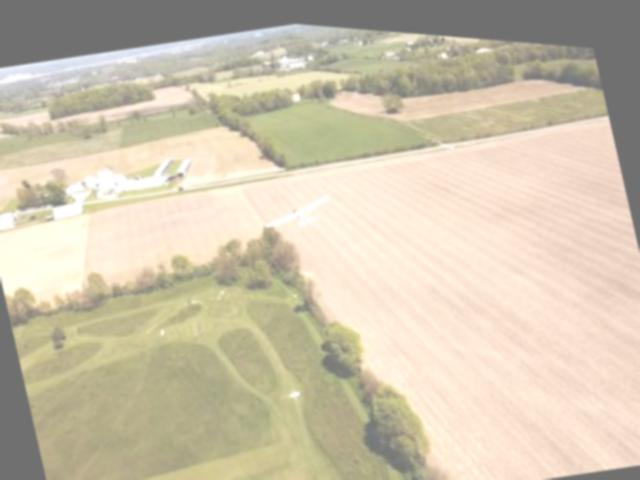uav: (252, 170, 345, 246)
